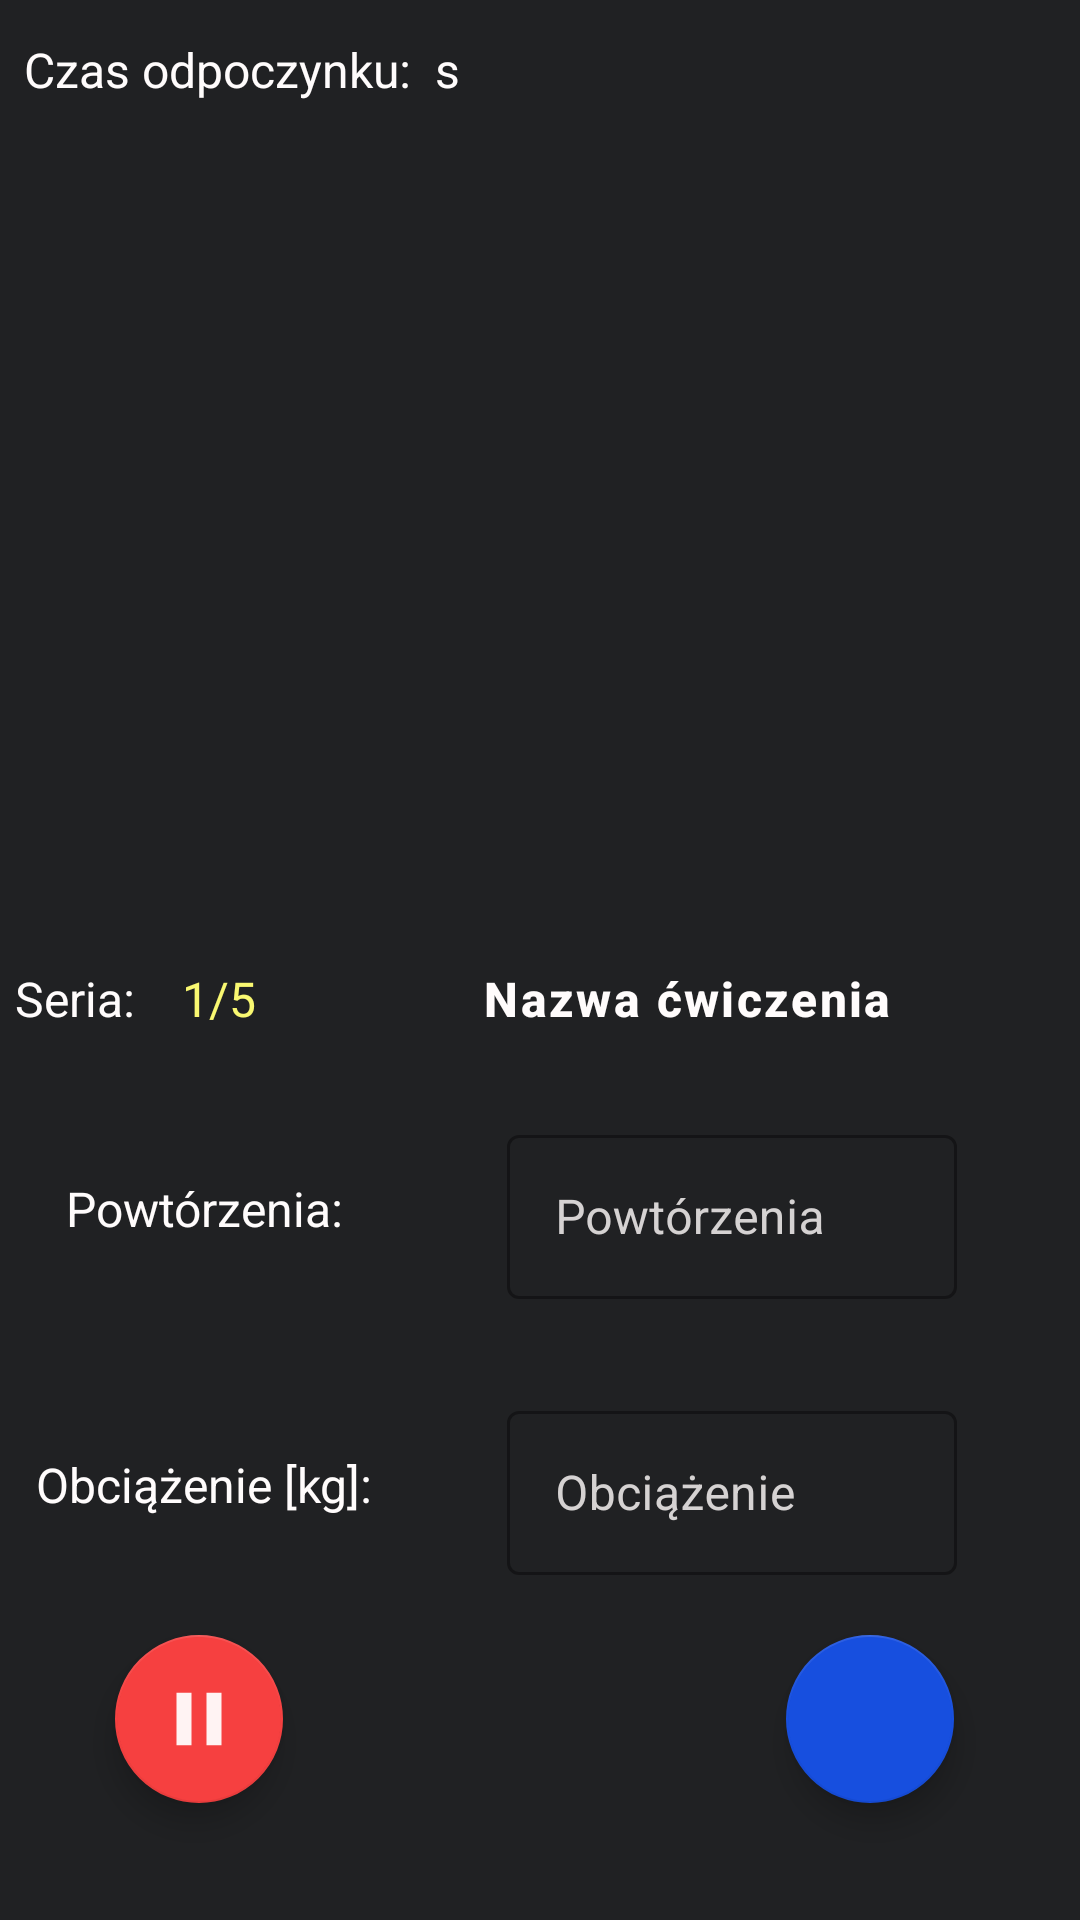

Screen size 1080×1920. Icon name, then its box in pixels as [x1=x1, y1=y1, x2=x2, y2=y2]:
Przerwij trening: [x1=115, y1=1635, x2=283, y2=1803]
